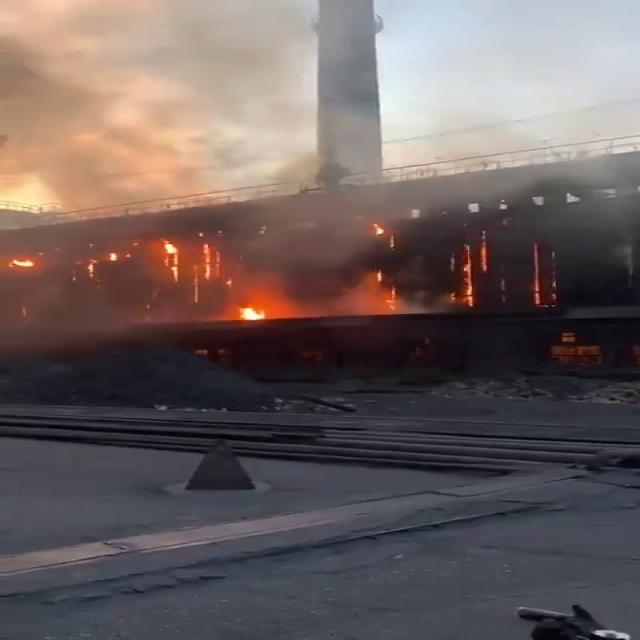Fire: (217, 297, 297, 324)
Smoke: (0, 0, 315, 214)
